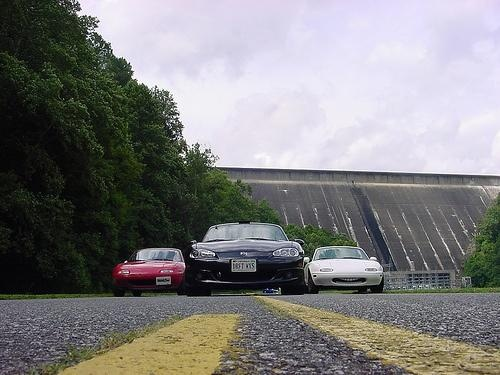car: (186, 221, 305, 298), (305, 247, 387, 295), (111, 248, 186, 298)
